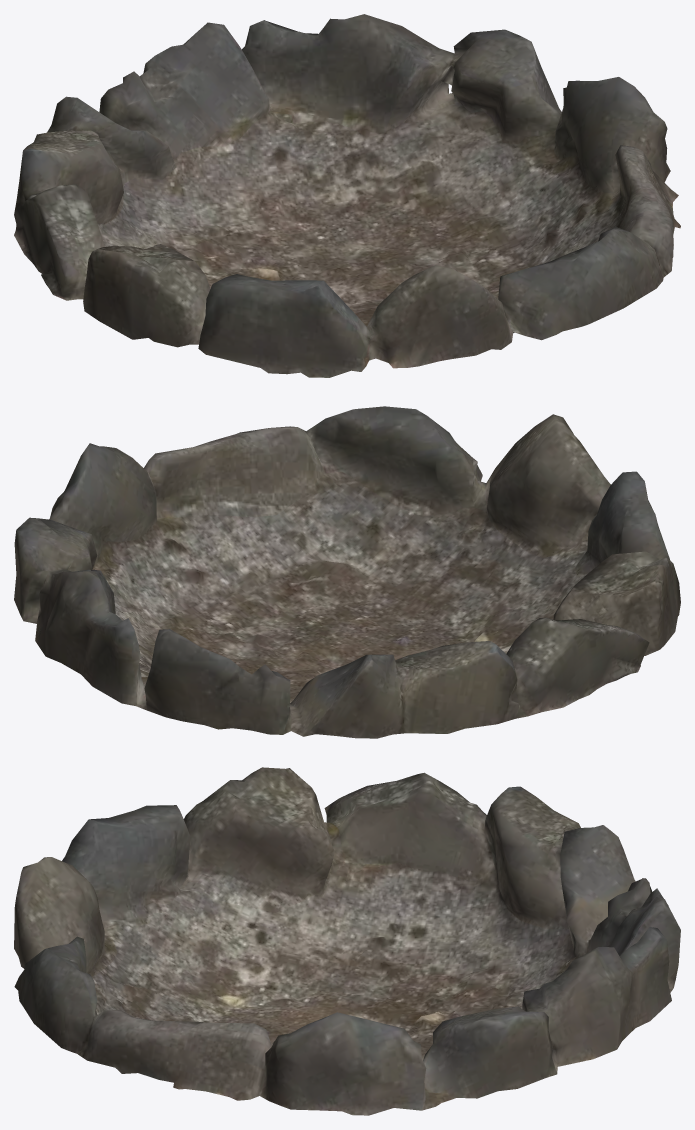
Rendered from stone_fire_pit.glb.
The picture shows the model from 3 angles, top to bottom: view 1: azimuth 30°, elevation 25°; view 2: azimuth 150°, elevation 25°; view 3: azimuth 270°, elevation 25°; orthographic projection.
Parts seen in each view (by area): view 1: stone_fire_pit; view 2: stone_fire_pit; view 3: stone_fire_pit.
Boxes of the visible parts, x1,y1,x2,y2 form: stone_fire_pit: (14,14,680,377); stone_fire_pit: (14,406,680,738); stone_fire_pit: (14,767,680,1115).
Size of the model in its own units: 1.45 by 0.3883 by 1.43.
Materials: 1 (1 with a texture image).
